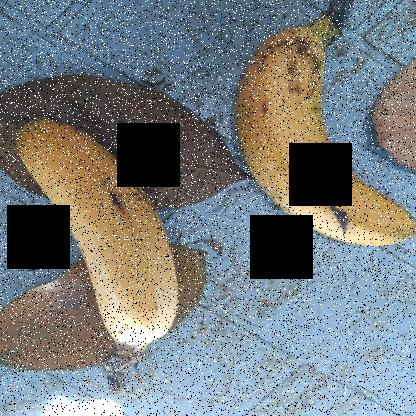freshripe: (0, 113, 210, 380)
ripe: (221, 22, 415, 272)
